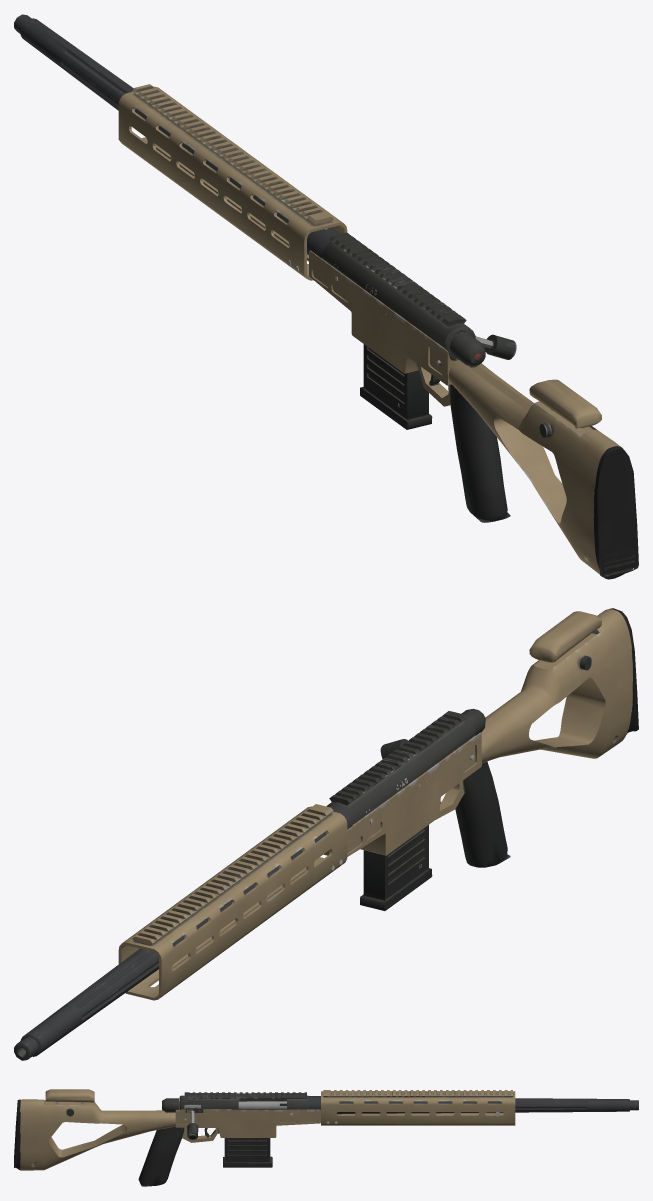
Rendered from carabina_308_leve.glb.
The picture shows the model from 3 angles, top to bottom: view 1: azimuth 30°, elevation 25°; view 2: azimuth 150°, elevation 25°; view 3: azimuth 270°, elevation 25°; orthographic projection. The views are drawn at different scales.
Visible parts, largest first — view 1: carabina_308_leve; view 2: carabina_308_leve; view 3: carabina_308_leve.
Boxes of the visible parts, left/top/right/bottom form: carabina_308_leve: left=14, top=14, right=638, bottom=579; carabina_308_leve: left=14, top=608, right=638, bottom=1060; carabina_308_leve: left=14, top=1089, right=638, bottom=1186.
Bounding box in the file's own units: 0.0909 × 0.1739 × 1.06.
1 material, 1 textured.
